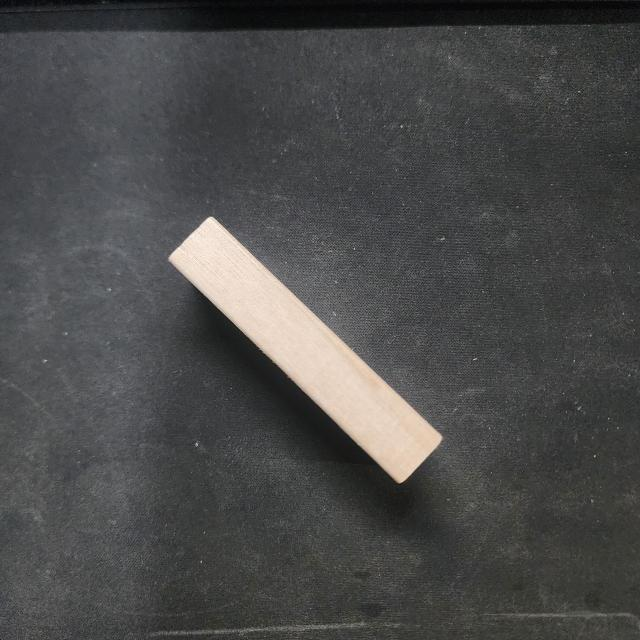wood: (166, 214, 445, 484)
